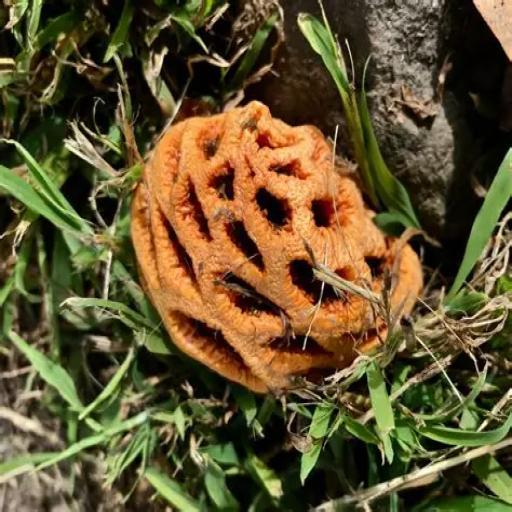mushroom: (133, 95, 424, 386)
